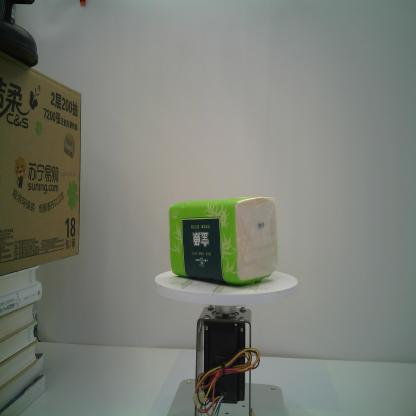Tissue: (169, 196, 277, 285)
